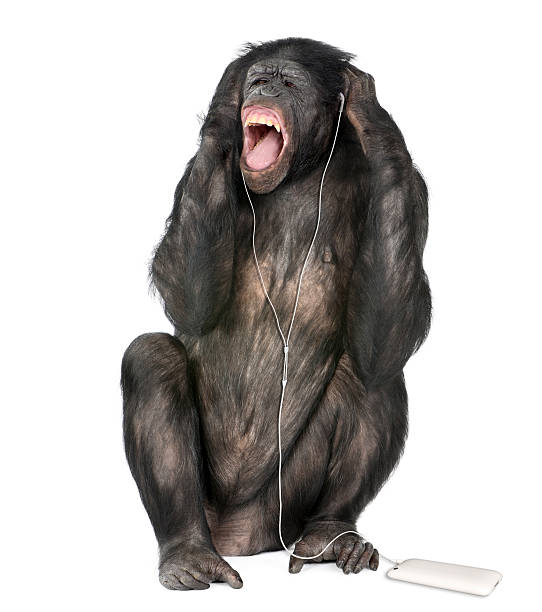chimpanzee: (204, 18, 377, 225)
